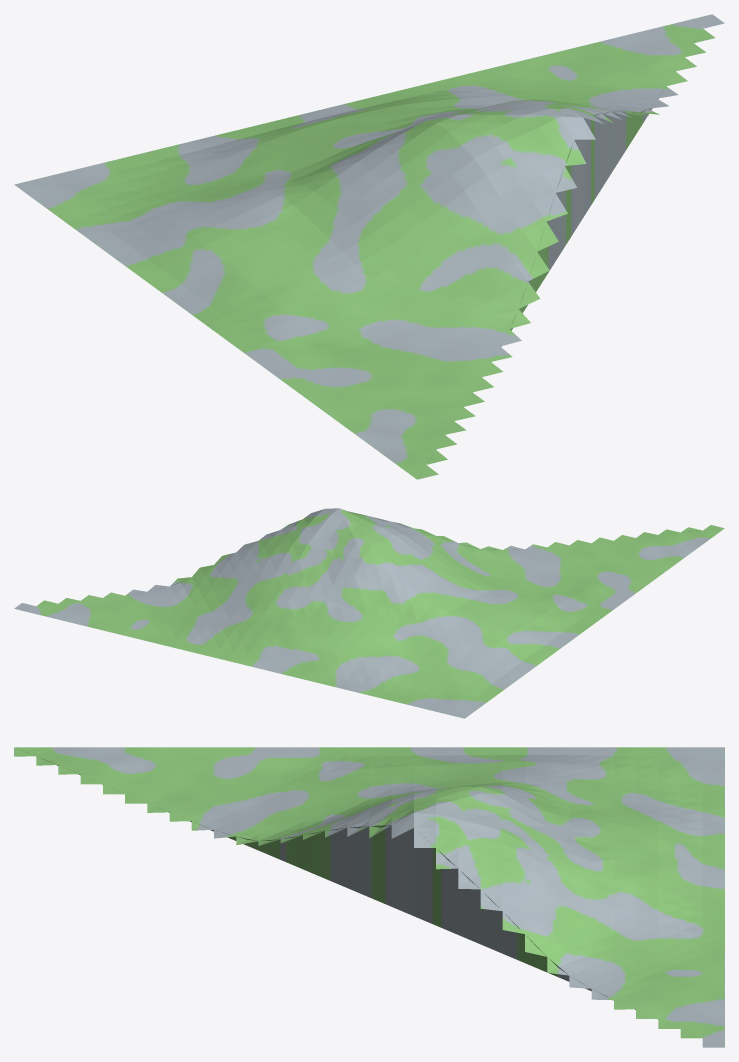
Rendered from Grass_RockyGround_11_SW.obj.
3 renders of one model, top to bottom at view 1: azimuth 30°, elevation 25°; view 2: azimuth 150°, elevation 25°; view 3: azimuth 270°, elevation 25°, orthographic. The views are drawn at different scales.
Size of the model in its own units: 10 by 1.46 by 10.
Materials: 1 (1 with a texture image).
